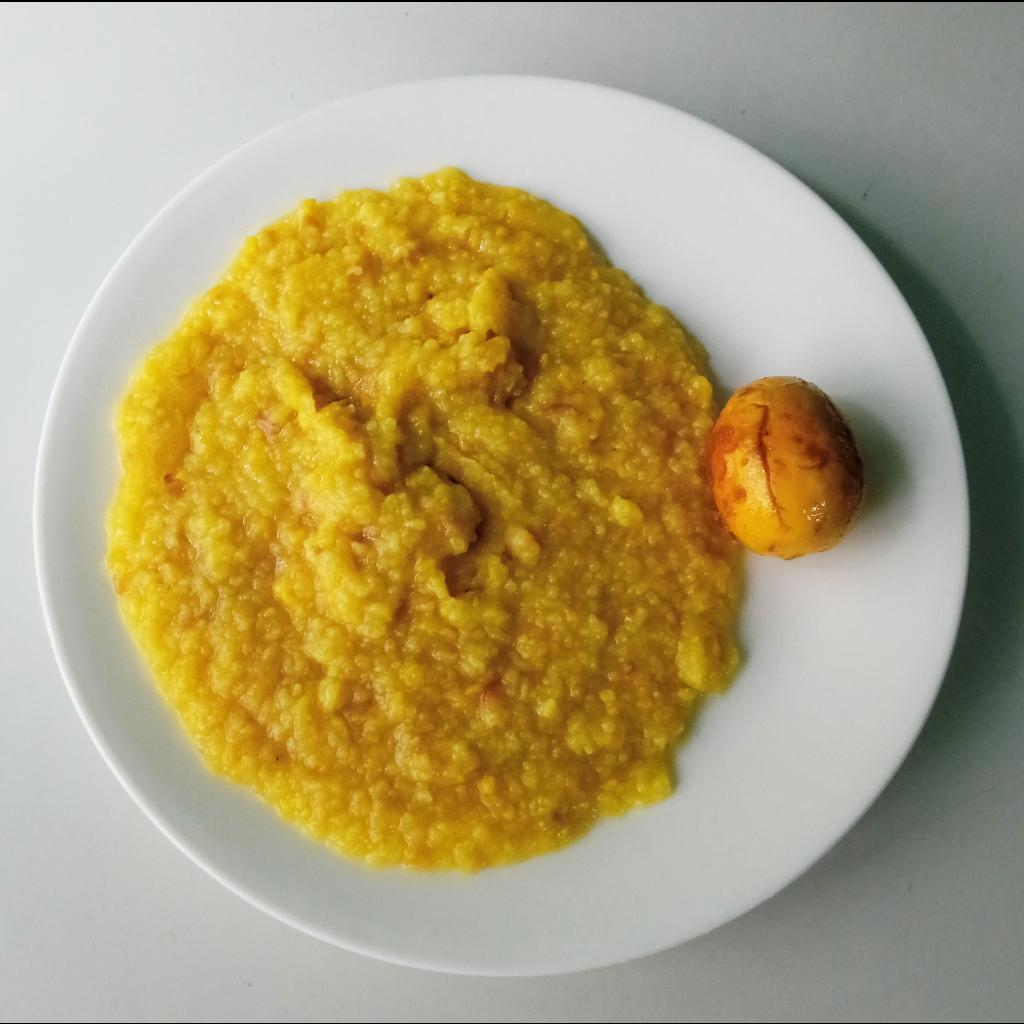egg-poached: (709, 378, 870, 564)
khichuri: (107, 164, 750, 872)
